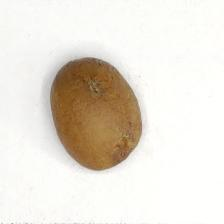NG: (80, 66, 109, 101), (110, 134, 137, 165)
